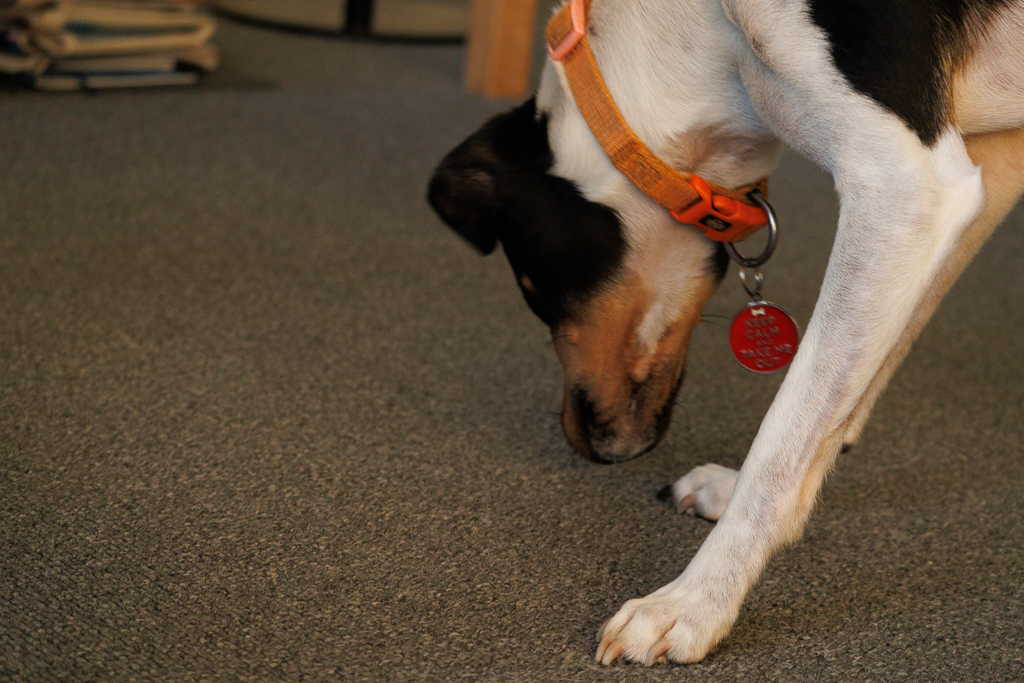Dog: (416, 0, 1023, 673)
